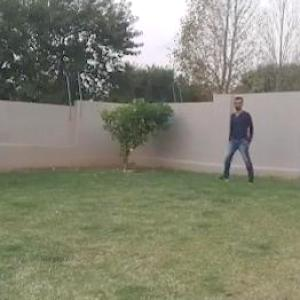follow: (229, 88, 253, 186)
